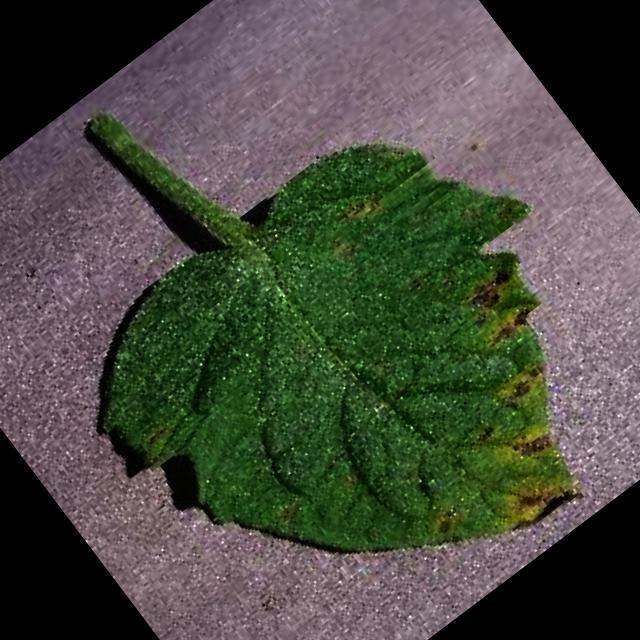Tomato Septoria spot leaf: (50, 72, 640, 640)
